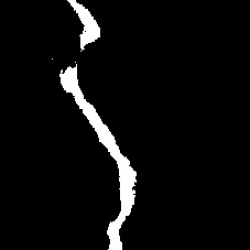crack: (60, 61, 139, 248), (66, 1, 102, 51)
